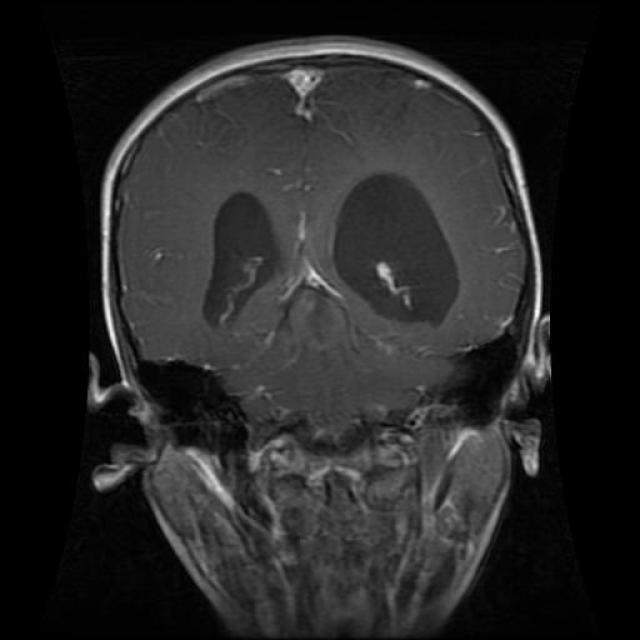glioma: (197, 168, 463, 352)
